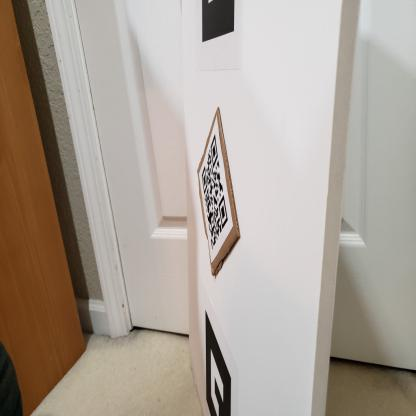qr: (197, 137, 235, 254)
